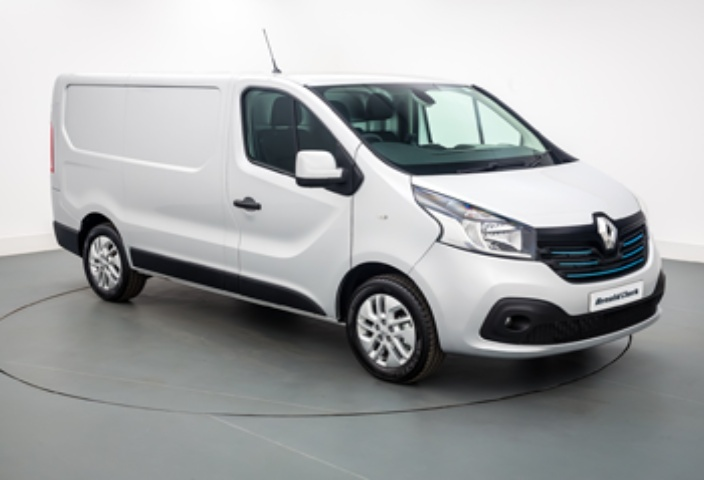van: (41, 43, 688, 385)
